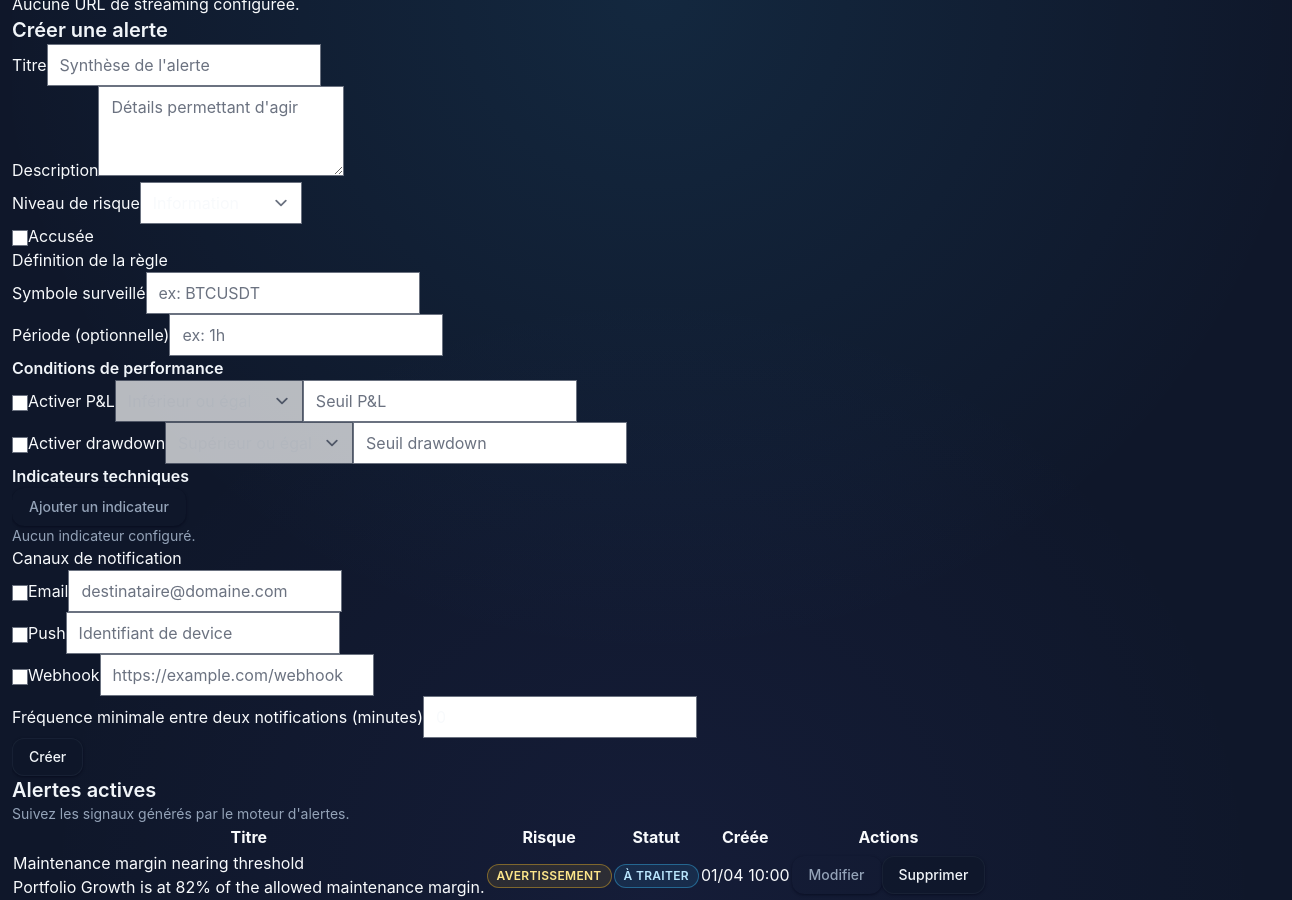
Test: AlertManager › affiche les alertes existantes et permet de basculer en mode édition
Check: the text "Maintenance margin nearing threshold" is shown, box [13,853,304,873]
What coordinates should you click on to do the following:
click the button "Modifier"
I would click on:
 (837, 875)
Its box is [792,856,882,894].
(page scrolled)
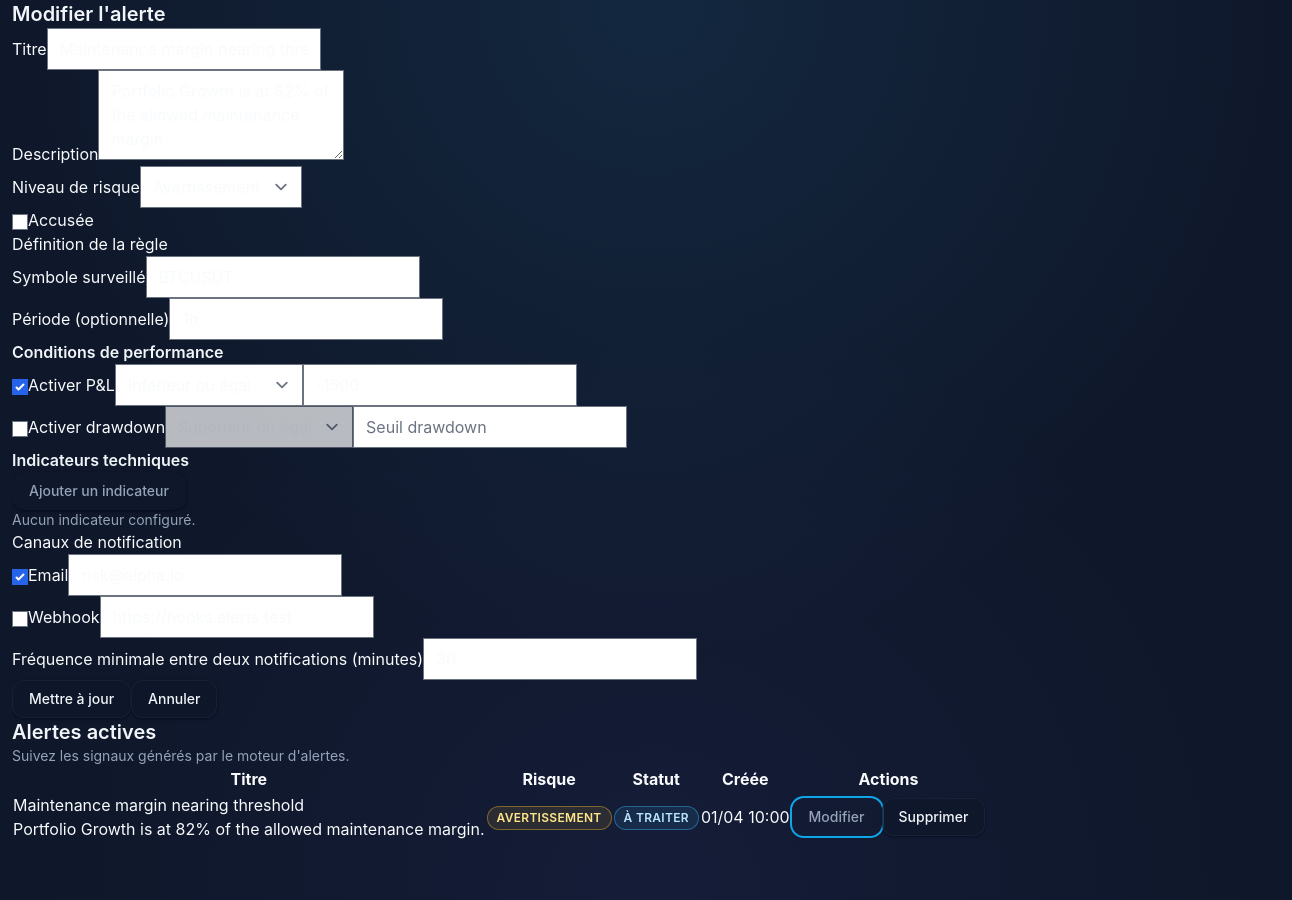
Check: the field labelled "Titre" holds "Maintenance margin nearing threshold", box [46,28,320,70]
